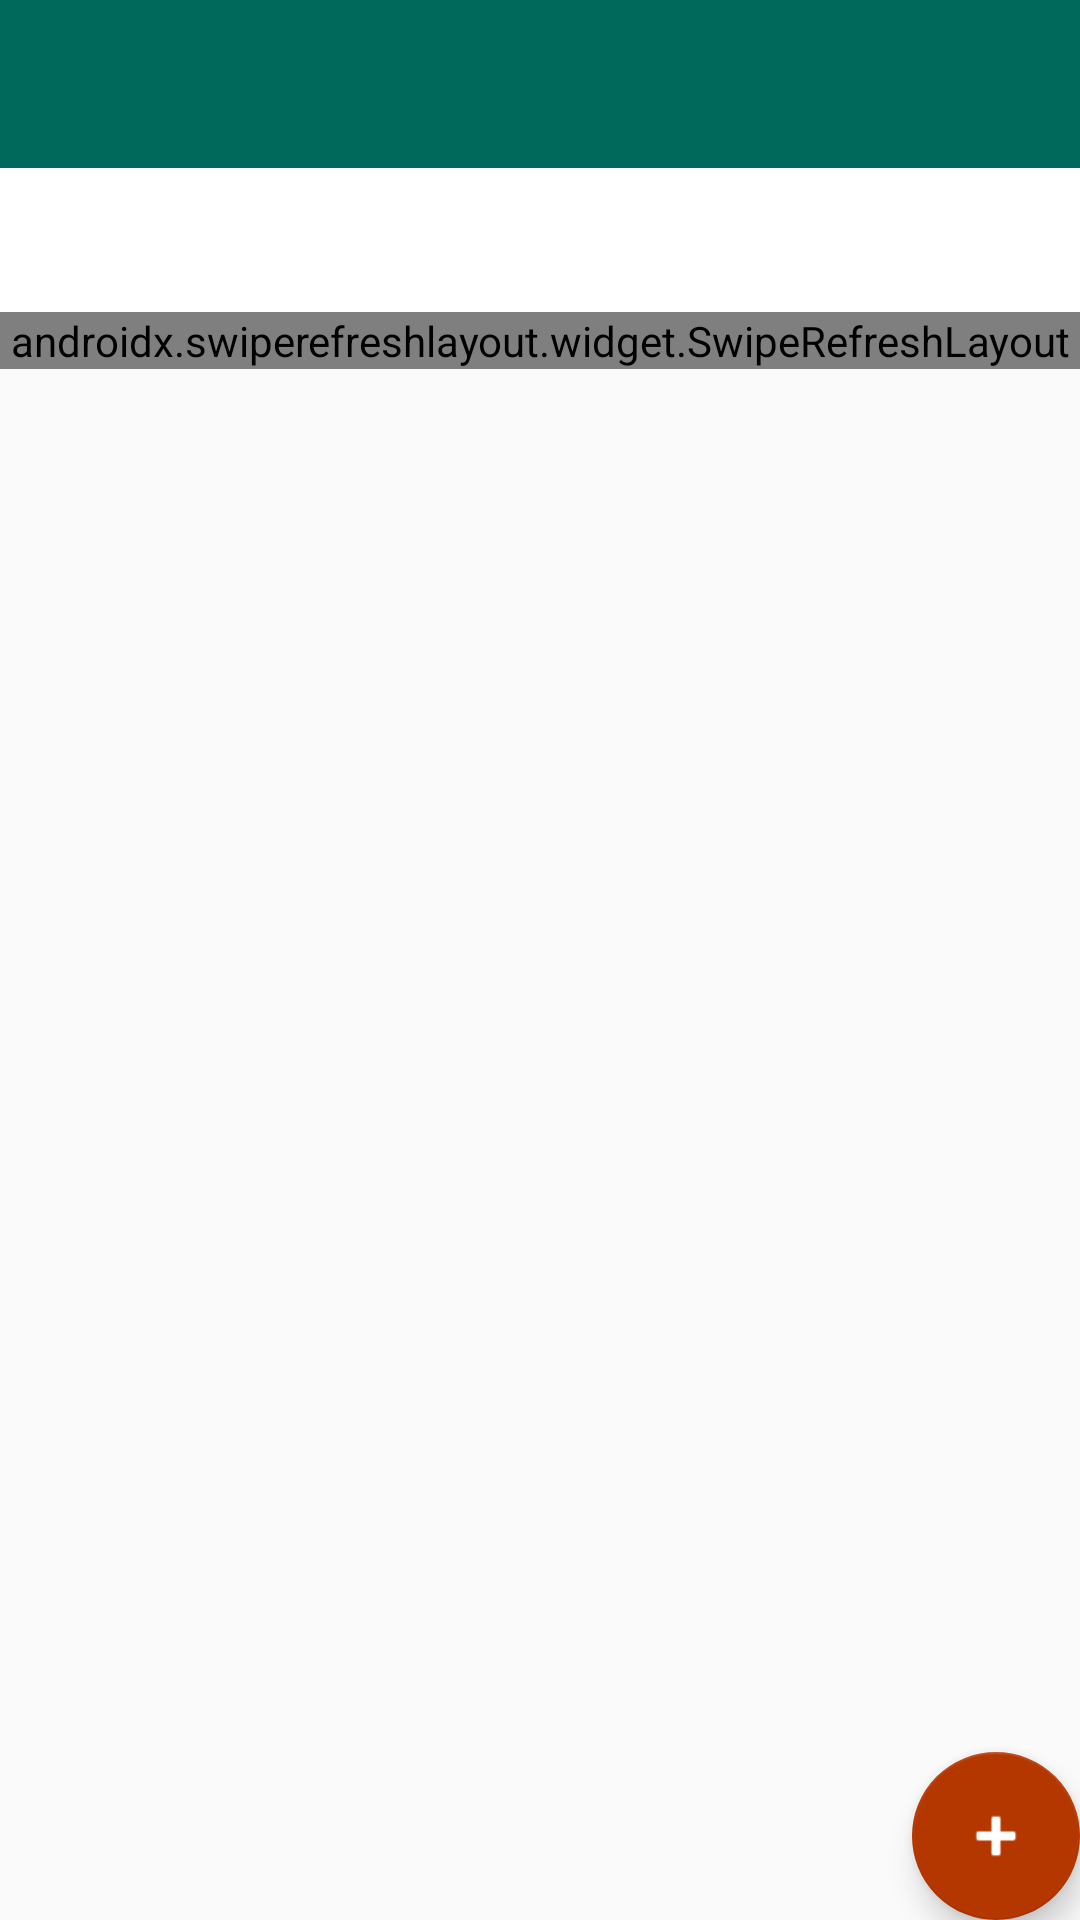

Icons on this 1080 × 1920 Android screen, each with its box as {"x1": x1, "y1": y1, "x2": x2, "y2": y2}:
Add movie: {"x1": 912, "y1": 1752, "x2": 1080, "y2": 1920}
